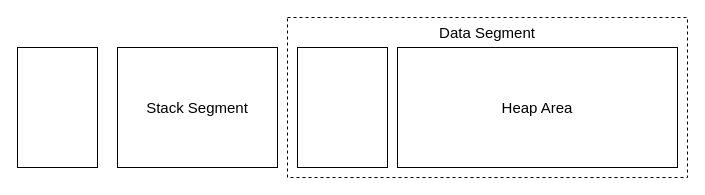
Image size: 705x195. Some labels were removed from this diagram. Here are the shapes that lost their labels. From the top down, the centre of each, then its label:
(57,107): Code Segment
(342,107): Static Area (global variables)
